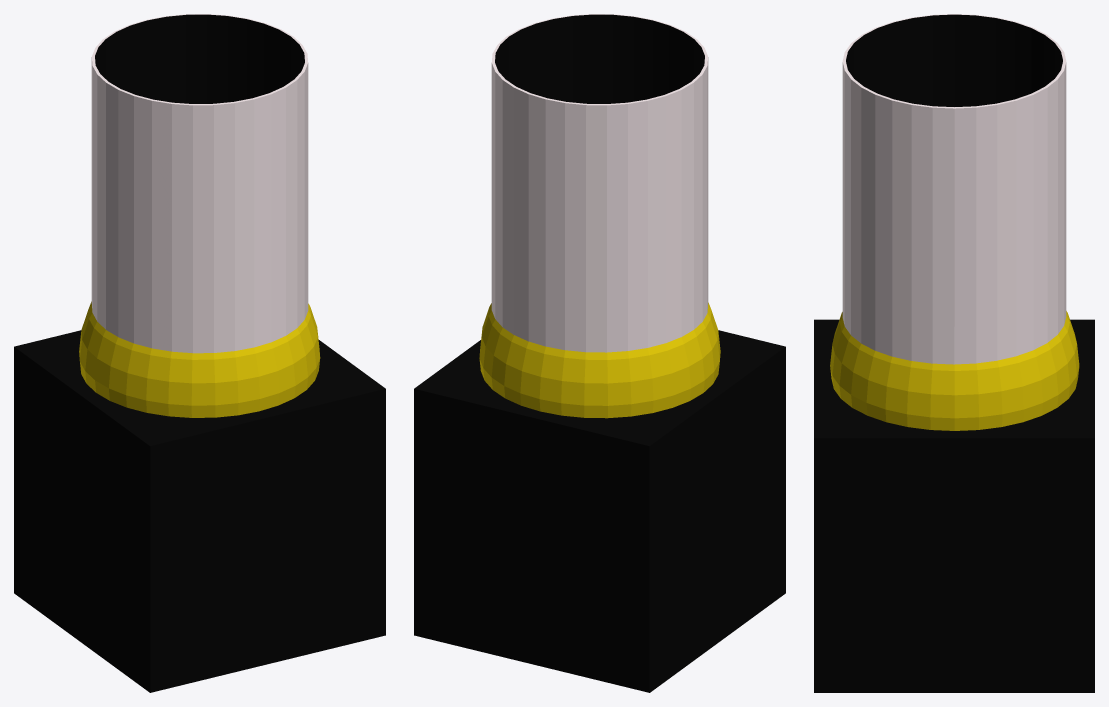
Rendered from Blessed sun cannon2.fbx.
The picture shows the model from 3 angles, left to right: view 1: azimuth 30°, elevation 25°; view 2: azimuth 150°, elevation 25°; view 3: azimuth 270°, elevation 25°; orthographic projection. The views are drawn at different scales.
Visible parts, largest first — view 1: Cube, Cylinder, Sphere; view 2: Cube, Cylinder, Sphere; view 3: Cube, Cylinder, Sphere.
Boxes of the visible parts, x1,y1,x2,y2 form: Cube: (14, 330, 385, 692); Cylinder: (91, 14, 308, 353); Sphere: (79, 301, 320, 417); Cube: (414, 330, 785, 692); Cylinder: (491, 14, 708, 352); Sphere: (479, 302, 720, 418); Cube: (814, 319, 1094, 692); Cylinder: (842, 14, 1066, 364); Sphere: (830, 311, 1079, 430).
Size of the model in its own units: 344 by 775 by 344.
